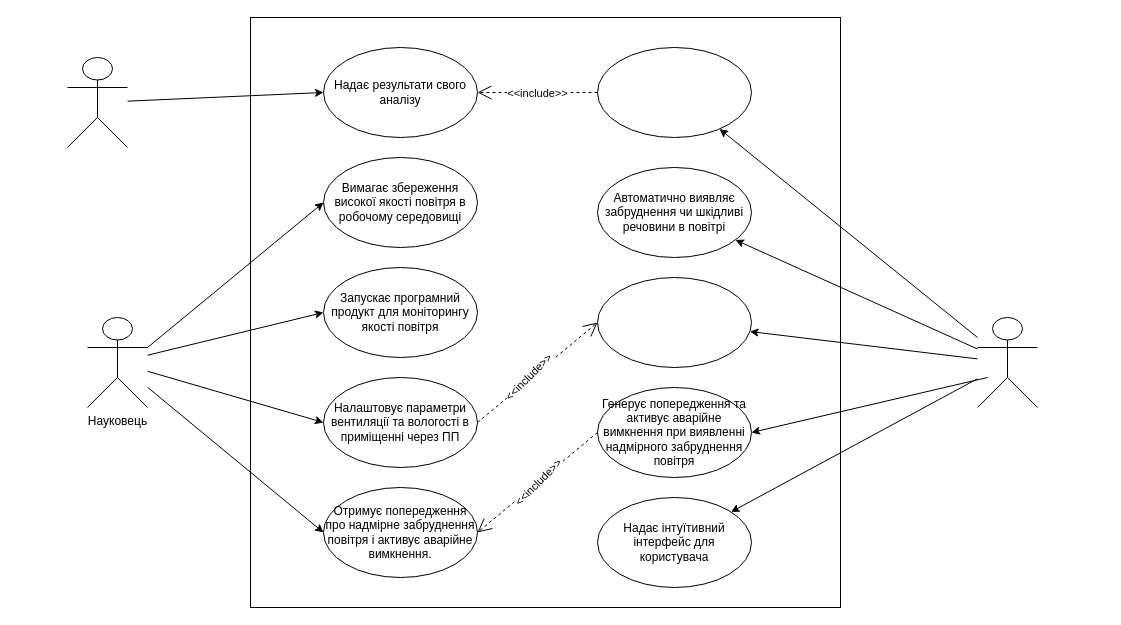
This 1121x625 diagram has some shape labels left out. Here are the shapes that lost their labels. From the top down, the centre of each, then its label:
[97,102]: інші програми (Epson\Waste)
[674,92]: Порівнює результати ПП та проводить інтелектуанальний аналіз
[674,322]: Моніторить рівень вентиляції та вологості та підтримує їх на заданих рівнях
[1007,362]: ПП "Air-science-security-information
